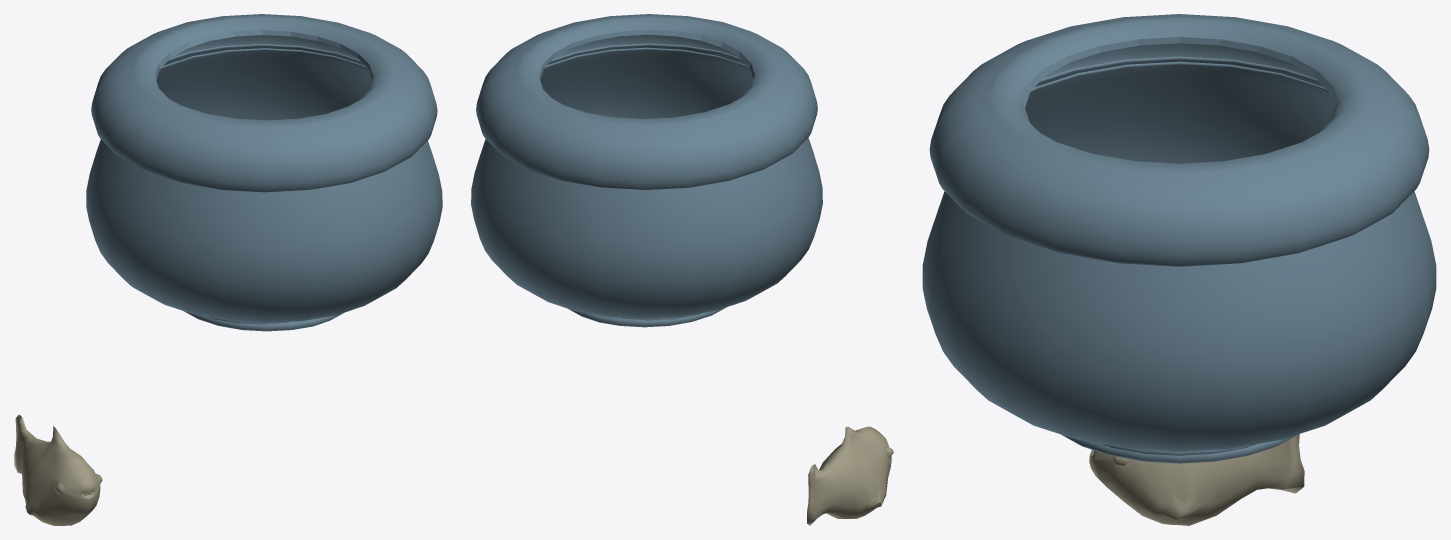
Rendered from FishandBowl.fbx.
3 renders of one model, left to right at view 1: azimuth 30°, elevation 25°; view 2: azimuth 150°, elevation 25°; view 3: azimuth 270°, elevation 25°, orthographic. The views are drawn at different scales.
Visible parts, largest first — view 1: FishMesh1; view 2: FishMesh1; view 3: FishMesh1.
Boxes of the visible parts, x1=… form: FishMesh1: x1=14, y1=14, x2=442, y2=525; FishMesh1: x1=471, y1=14, x2=893, y2=525; FishMesh1: x1=922, y1=14, x2=1436, y2=525.
Bounding box in the file's own units: 35.7 × 35.04 × 28.53.
